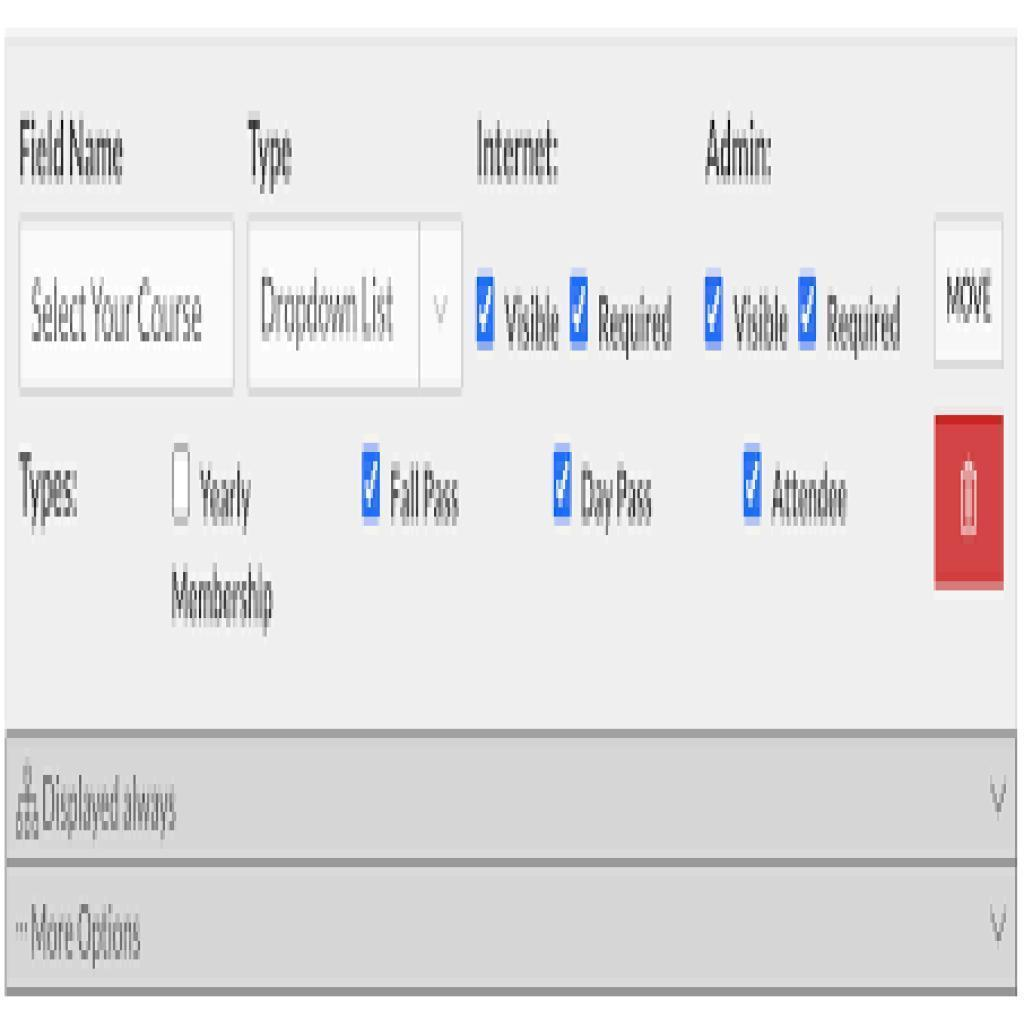button: (934, 211, 1005, 360)
checkbox: (471, 261, 498, 356), (168, 441, 196, 529), (702, 268, 728, 359), (357, 442, 383, 529), (567, 273, 593, 352), (549, 441, 574, 521), (796, 271, 817, 356)
dropdown: (3, 864, 1020, 998), (5, 731, 1018, 862), (249, 216, 463, 389)
icon: (933, 412, 1002, 591)
input: (18, 211, 230, 392)
